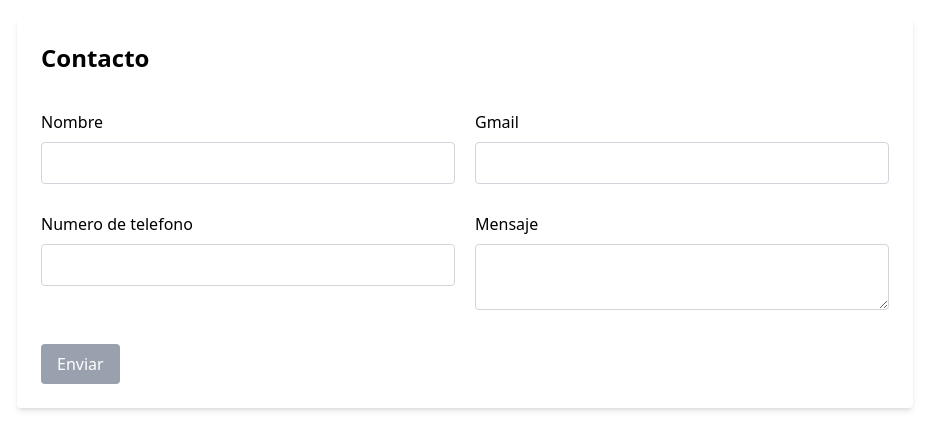
Test: ContactUs Form Validation and Submission › Mostrar error si el nombre tiene 1 o 2 caracteres
The image size is (931, 441).
Type "Jo" into the field labelled "Nombre".
click(248, 163); type("Jo")  # box x1=41 y1=142 x2=455 y2=184
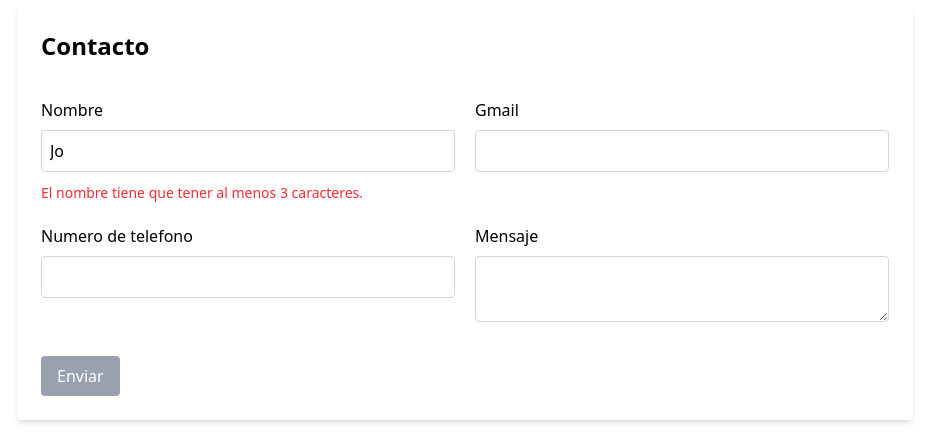
Expected: the button "Enviar" is disabled, x1=41 y1=356 x2=120 y2=396
Now the text "El nombre tiene que tener al menos 3 caracteres." is shown, box x1=41 y1=183 x2=363 y2=202
